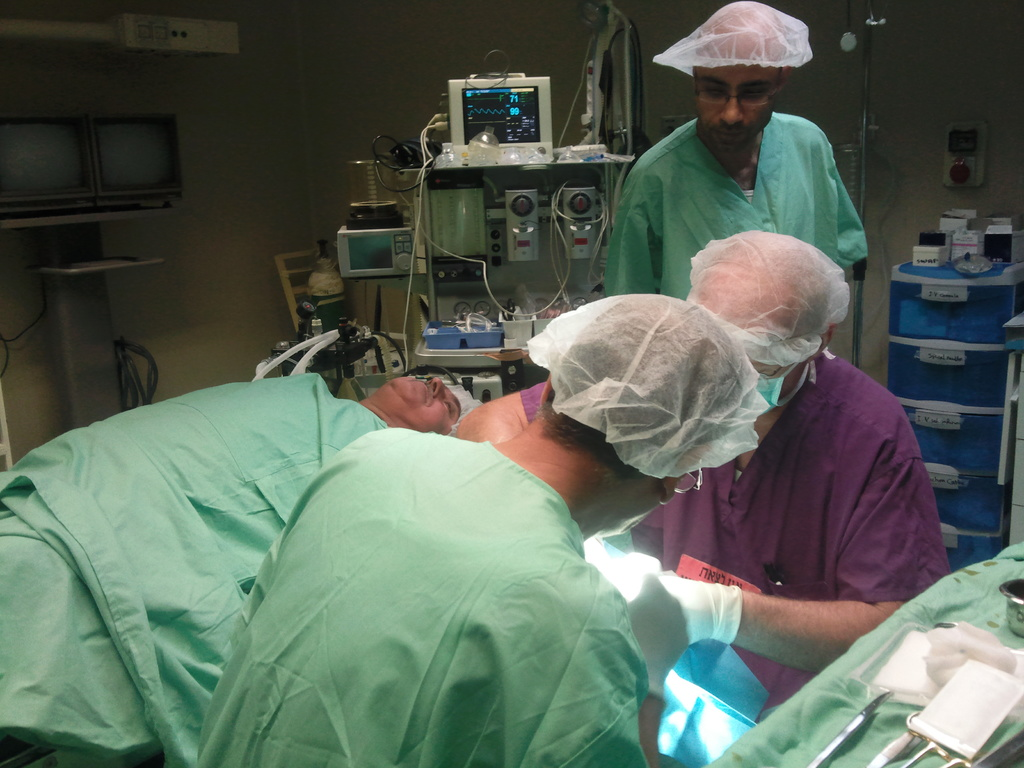Person: (0, 0, 954, 768)
